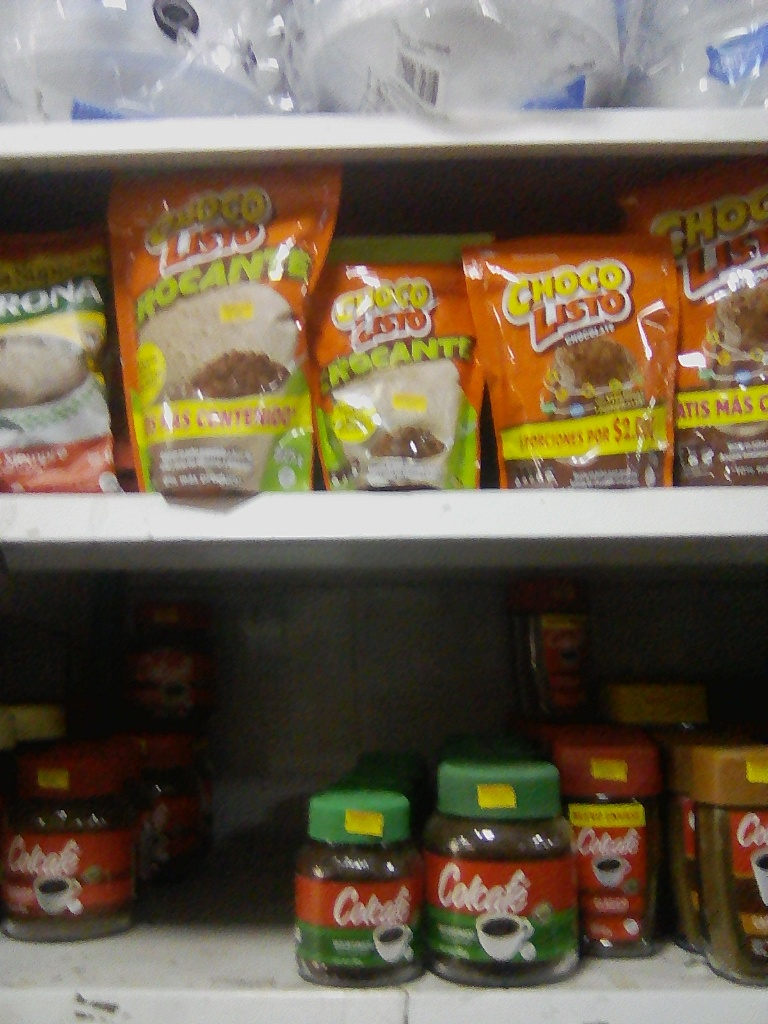COL0170102DYP10000: (317, 230, 490, 510)
COL0170102DYP25000: (99, 167, 344, 498)
COL0170103DYP10000: (473, 241, 681, 487)
COL0170103DYP20000: (649, 171, 768, 480)
